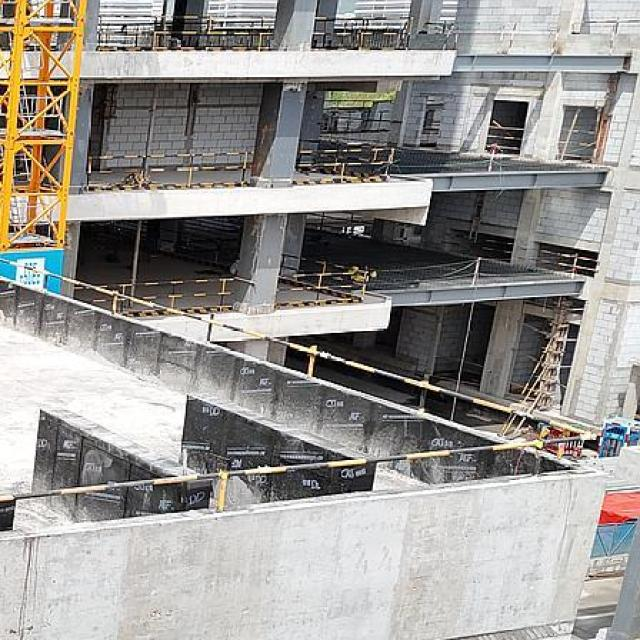edge_guardrail: (0, 258, 600, 515), (96, 13, 277, 47), (85, 151, 255, 186), (74, 277, 235, 306), (276, 252, 369, 301), (312, 16, 414, 51), (296, 146, 396, 180), (319, 115, 401, 144), (556, 107, 596, 162), (536, 248, 600, 273), (313, 212, 371, 234), (573, 20, 640, 36), (486, 125, 524, 151), (480, 238, 514, 253), (424, 21, 454, 35), (324, 99, 372, 107), (457, 356, 482, 368), (446, 233, 468, 246)
